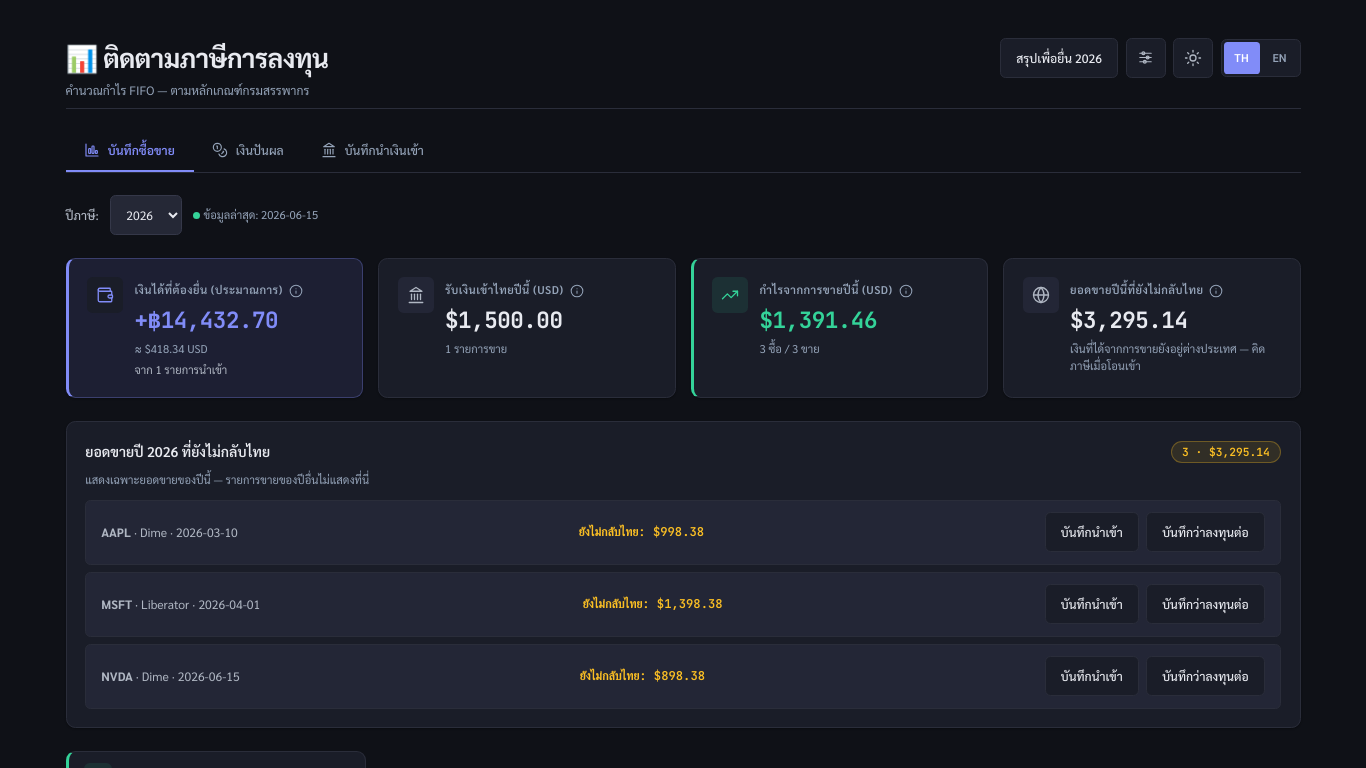
tab-scoped capital-gain summary › shows no capital-gain card or provider row on the Dividend tab
This screenshot has width=1366, height=768.
Click the tab with class "tab-btn" showing "เงินปันผล" at point(248, 151), box x1=194 y1=131 x2=302 y2=172
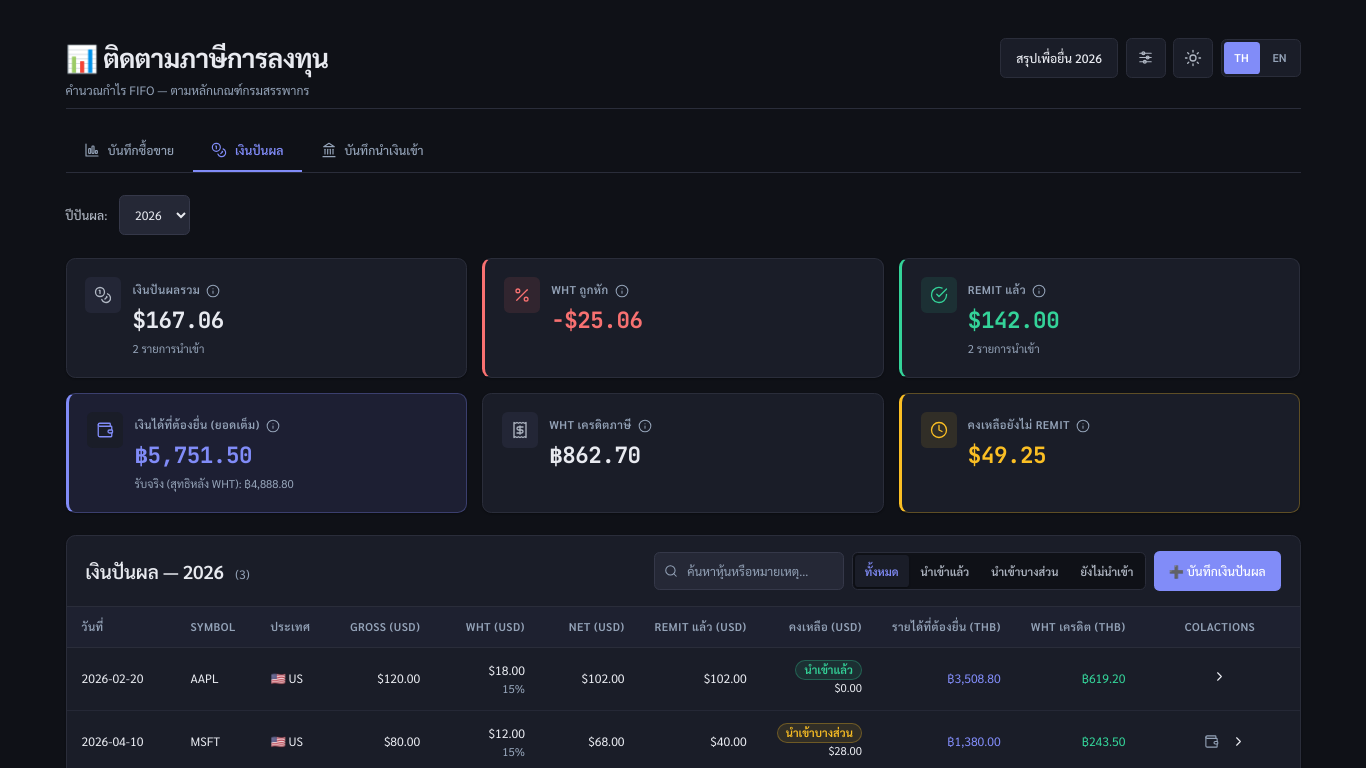
Expected: the label with id "year-select" is gone
Expected: the number of elements with class "kpi-card" is 6, x1=66 y1=258 x2=467 y2=378; x1=482 y1=258 x2=884 y2=378; x1=899 y1=258 x2=1300 y2=378; x1=66 y1=393 x2=467 y2=513; x1=482 y1=393 x2=884 y2=513; x1=899 y1=393 x2=1300 y2=513
